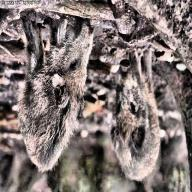boar: (2, 14, 104, 175), (109, 45, 162, 189)
